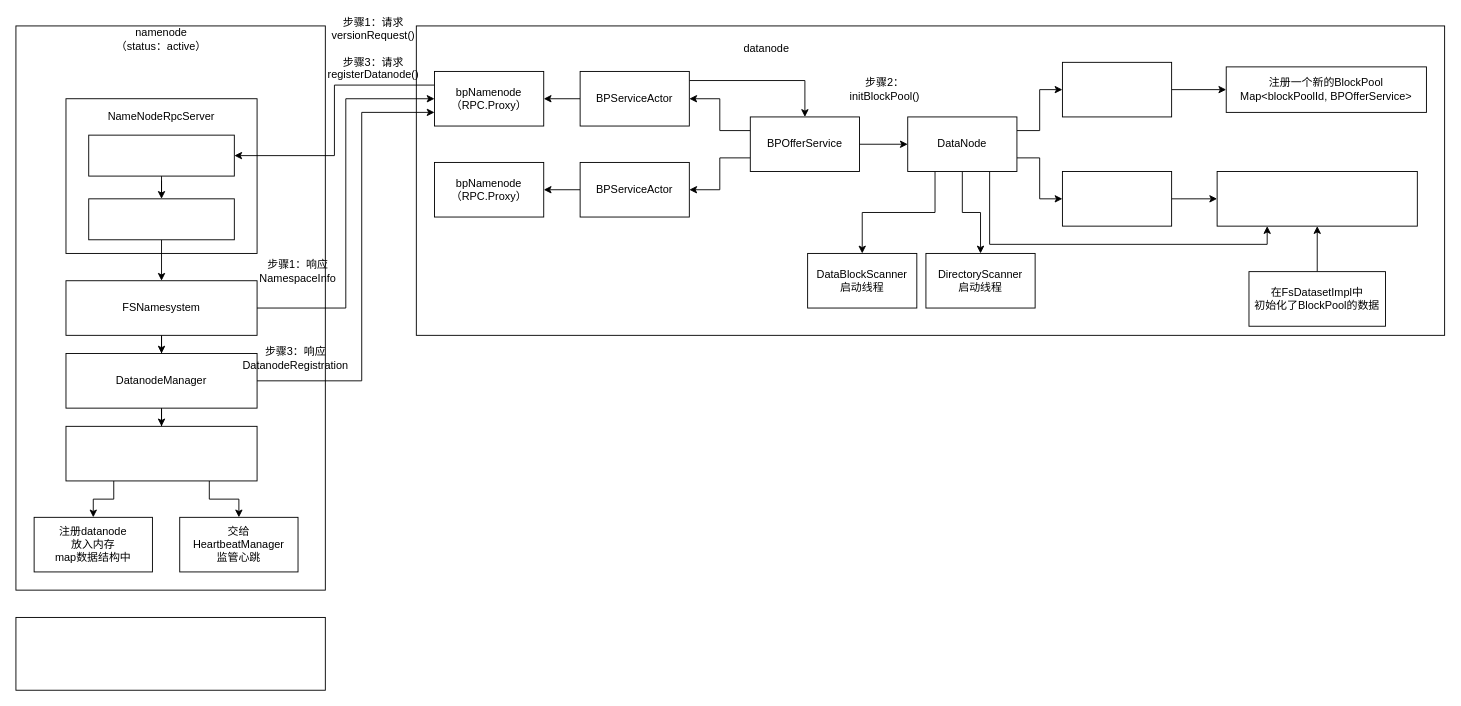
This 1461x706 diagram has some shape labels left out. The shapes that lost their labels are listed below. From the top down, each one's centre as x and y in pixels, then its label:
point (1117, 89): BlockPoolManager
point (161, 155): RPC Server （监控端口）
point (1117, 198): FsDatasetFactory
point (1316, 198): 创建一个 FsDatasetImp实例对象 负责底层的磁盘文件读写的操作
point (161, 219): RPC接口 业务逻辑
point (161, 453): 创建一个 DatanodeDescriptor
point (170, 653): namenode （status：standby）
